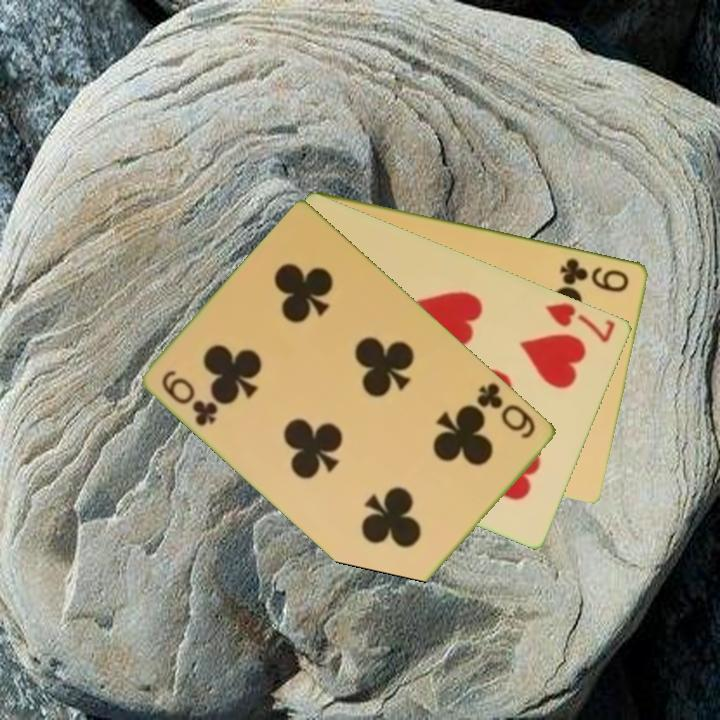6c: (474, 378, 540, 442), (158, 366, 222, 430)
7h: (542, 298, 619, 345)
9c: (556, 254, 633, 295)
